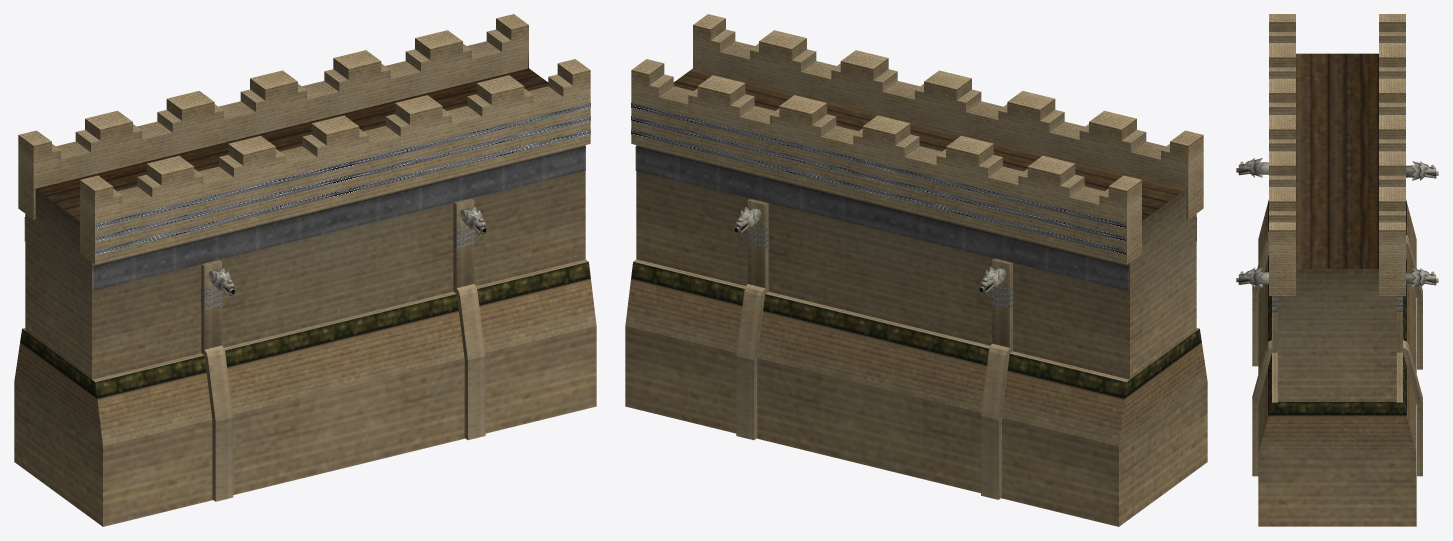
The model's file is han_wall_medium.glb.
3 renders of one model, left to right at view 1: azimuth 30°, elevation 25°; view 2: azimuth 150°, elevation 25°; view 3: azimuth 270°, elevation 25°, orthographic. The views are drawn at different scales.
Visible parts, largest first — view 1: han_wall_medium_part0; view 2: han_wall_medium_part0; view 3: han_wall_medium_part0, han_wall_medium_part1, han_wall_medium_part2, han_wall_medium_part4, han_wall_medium_part3.
Boxes of the visible parts, x1,y1,x2,y2 form: han_wall_medium_part0: [14, 14, 596, 526]; han_wall_medium_part0: [625, 14, 1207, 526]; han_wall_medium_part0: [1252, 14, 1422, 526]; han_wall_medium_part1: [1406, 161, 1438, 180]; han_wall_medium_part2: [1236, 158, 1268, 177]; han_wall_medium_part4: [1406, 268, 1438, 287]; han_wall_medium_part3: [1236, 267, 1268, 287].
Bounding box in the file's own units: 1.5 × 0.9605 × 0.5936.
2 materials, 2 textured.
